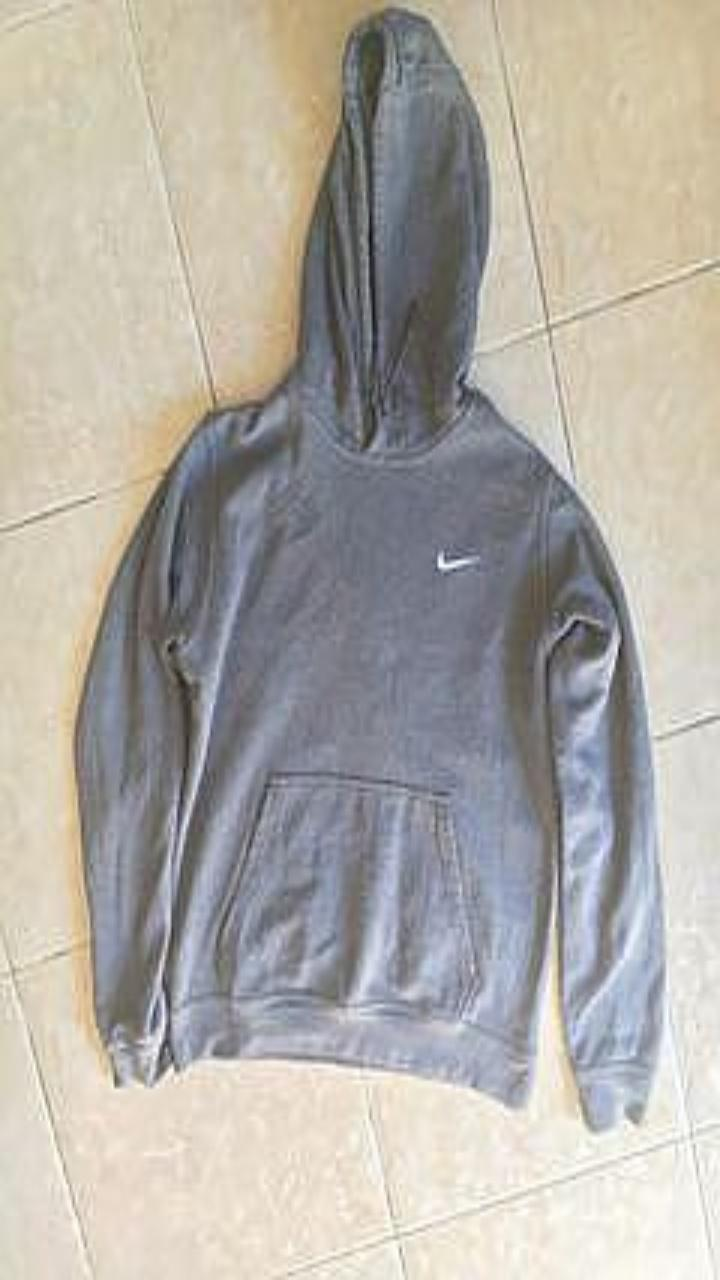Hoodie: (74, 7, 663, 1128)
